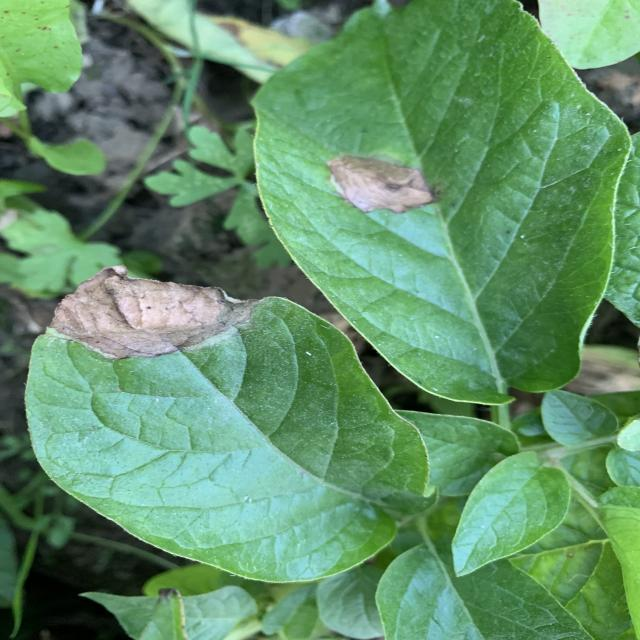lateblight: (50, 266, 258, 359), (327, 155, 433, 212)
